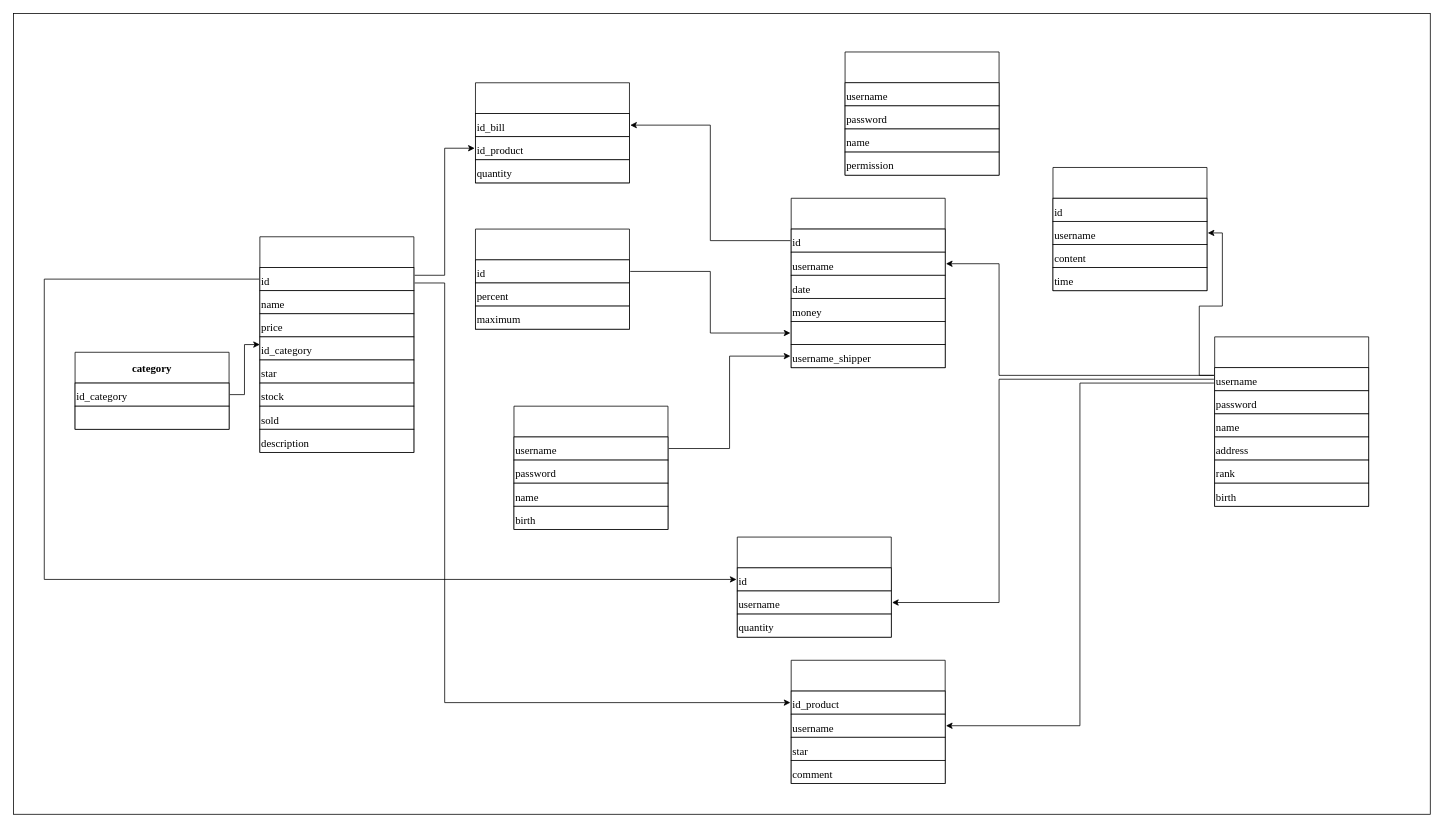
Image size: 1444x828. Some labels were removed from this diagram. The box of each missing label's shape, as (x1, y1, x2, y2) in pixels:
bill_products: (475, 82, 629, 183)
bills: (790, 198, 945, 368)
cart: (737, 536, 891, 637)
chat: (1052, 167, 1207, 291)
evaluate: (790, 660, 945, 783)
id_voucher: (790, 321, 945, 345)
name_category: (74, 405, 229, 429)
products: (259, 236, 414, 452)
shipper: (513, 405, 668, 529)
users: (1214, 336, 1369, 506)
users_store: (844, 51, 999, 175)
voucher: (475, 228, 629, 329)
